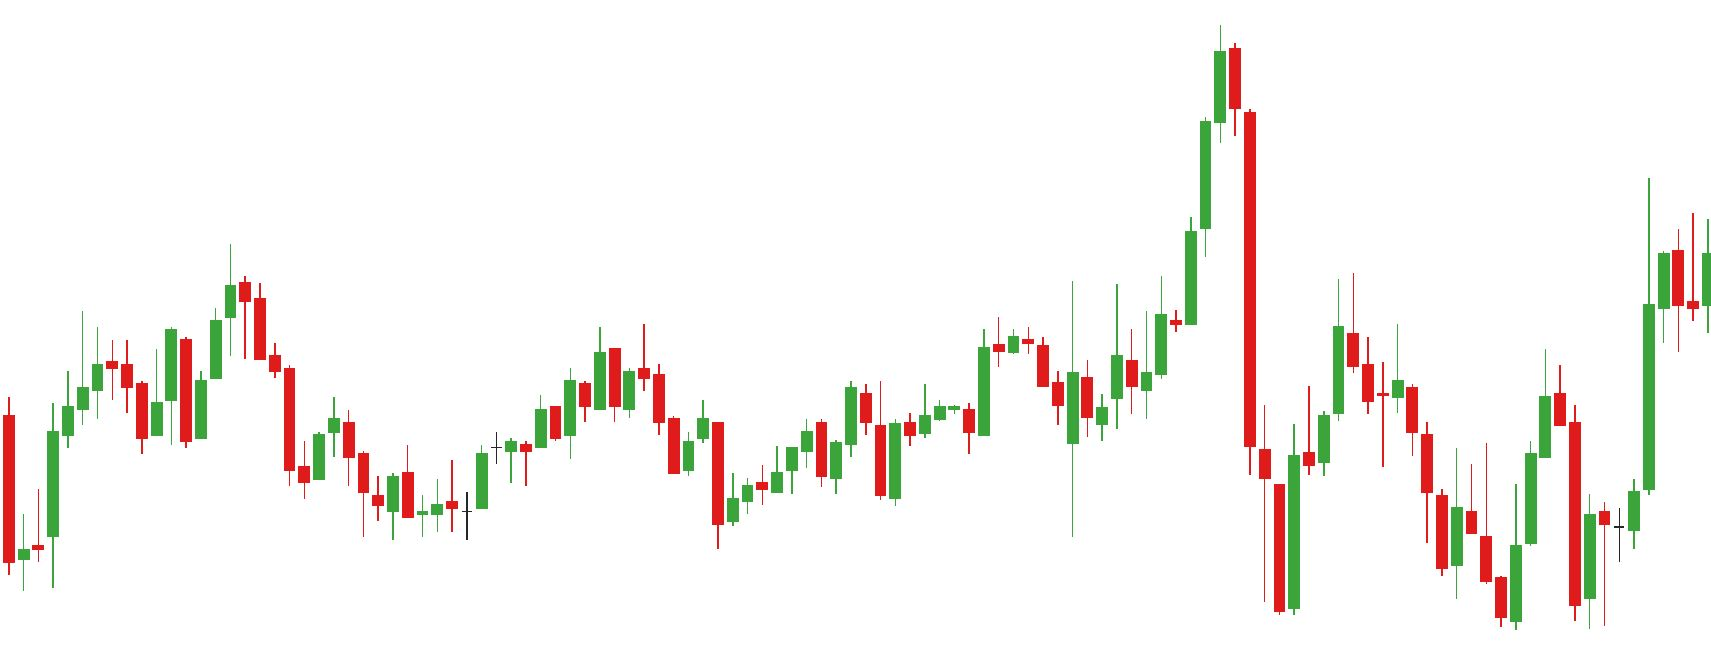buy: (1063, 343, 1302, 617)
